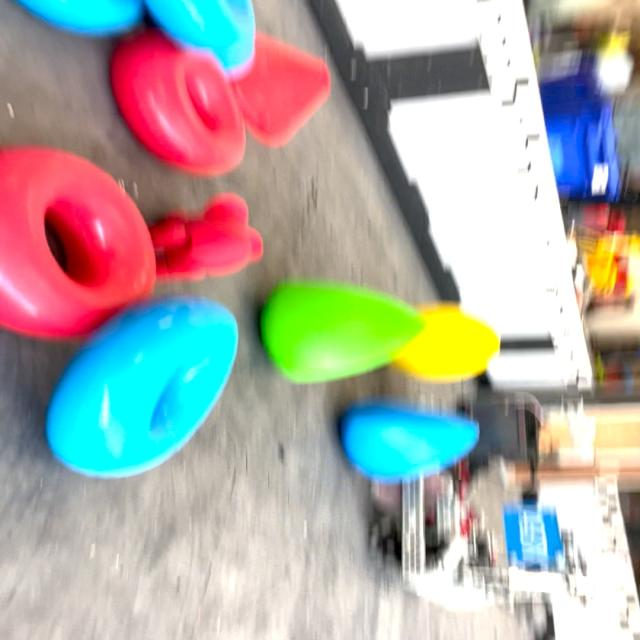Blue-Ring: (47, 296, 238, 478), (144, 0, 256, 71)
Red-Ring: (0, 146, 156, 339), (111, 29, 244, 176)
